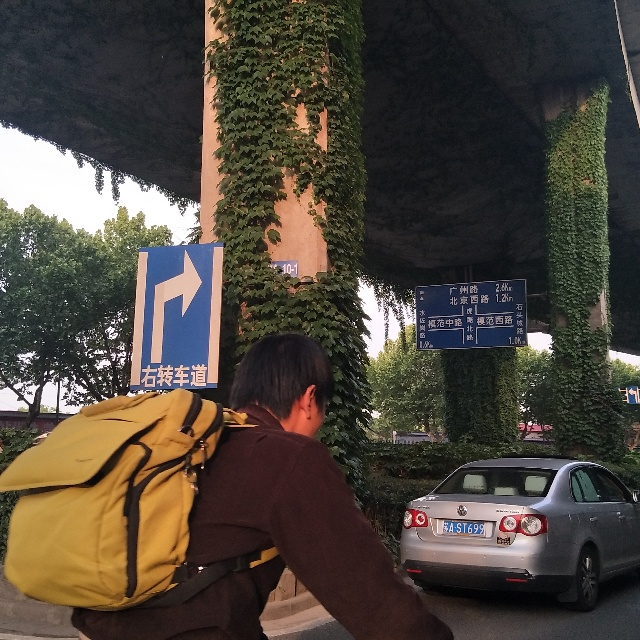left: (626, 383, 640, 406)
right: (140, 249, 210, 369)
